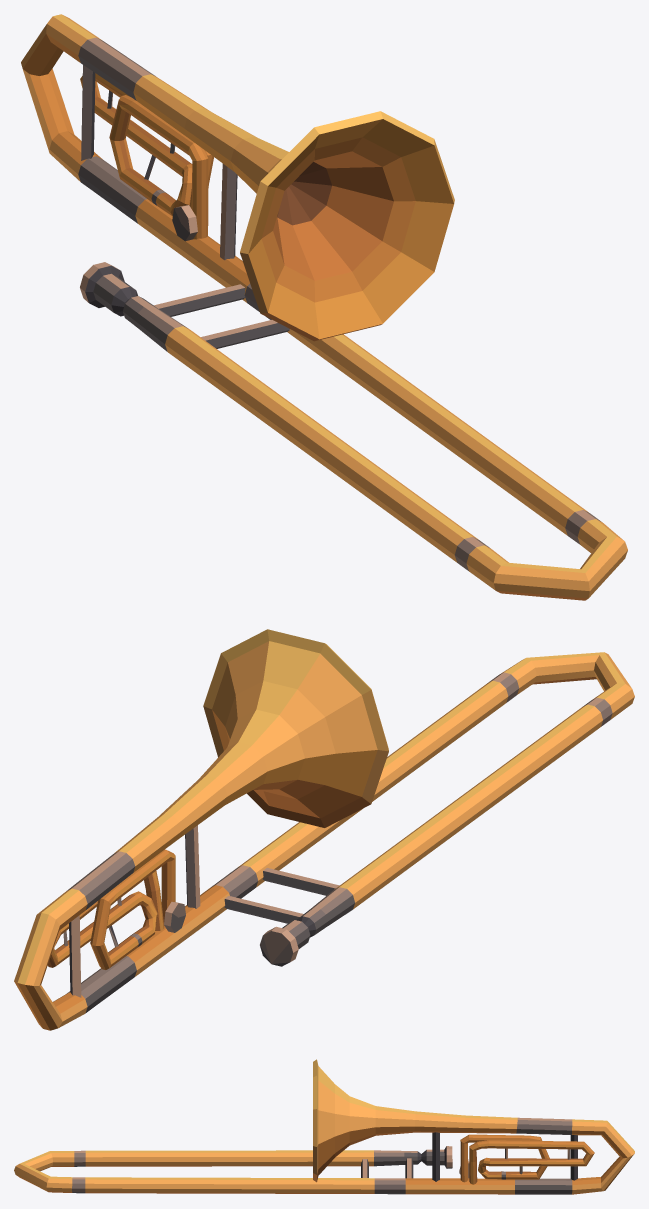
File: trombone.fbx
3 renders of one model, top to bottom at view 1: azimuth 30°, elevation 25°; view 2: azimuth 150°, elevation 25°; view 3: azimuth 270°, elevation 25°, orthographic. The views are drawn at different scales.
Visible parts, largest first — view 1: pCylinder3; view 2: pCylinder3; view 3: pCylinder3.
Boxes of the visible parts, x1,y1,x2,y2 form: pCylinder3: (21,14,627,600); pCylinder3: (14,629,634,1030); pCylinder3: (14,1059,634,1194).
Bounding box in the file's own units: 30.34 × 30.77 × 136.
